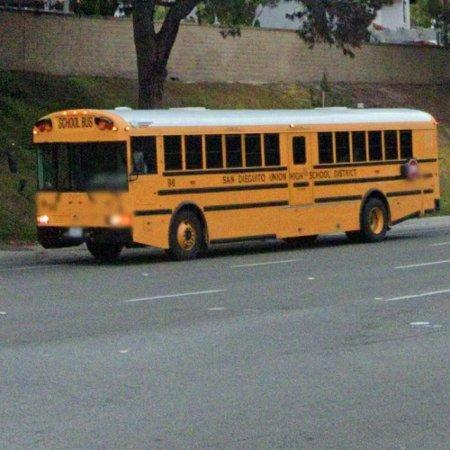buses: (32, 108, 441, 260)
